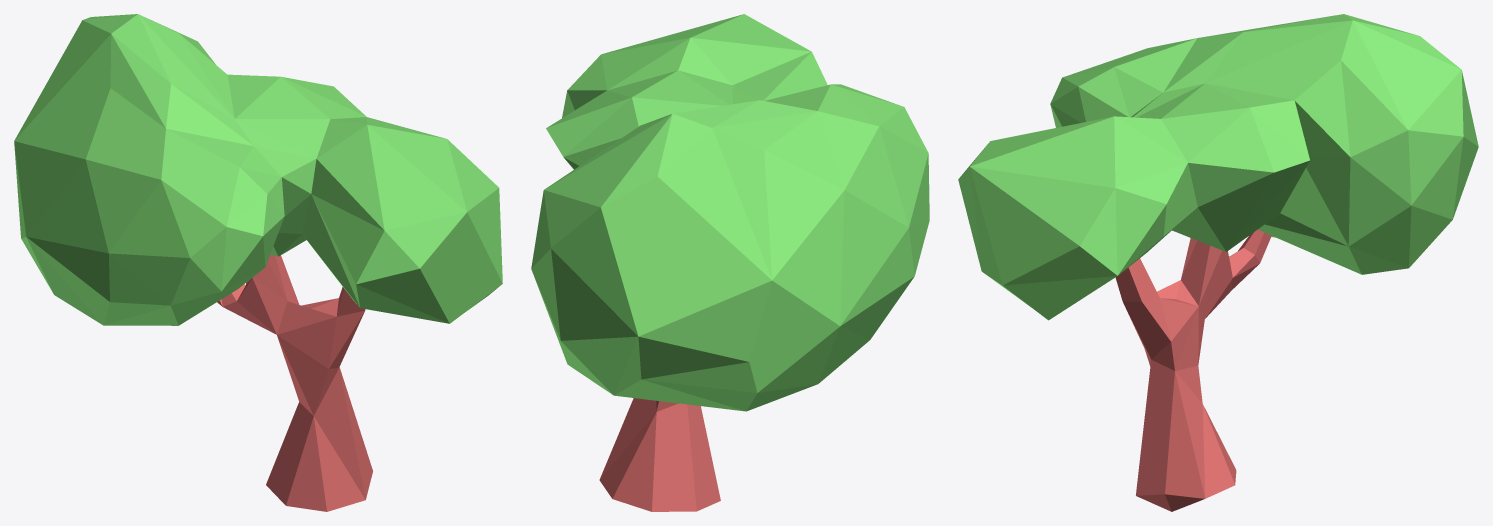
Rendered from tree_9.fbx.
The picture shows the model from 3 angles, left to right: view 1: azimuth 30°, elevation 25°; view 2: azimuth 150°, elevation 25°; view 3: azimuth 270°, elevation 25°; orthographic projection. The views are drawn at different scales.
Visible parts, largest first — view 1: Plane.002; view 2: Plane.002; view 3: Plane.002.
Part boxes in pixels (<box>): Plane.002: <box>14,14,502,511</box>; Plane.002: <box>531,14,929,511</box>; Plane.002: <box>958,14,1478,511</box>.
Size of the model in its own units: 745 by 889 by 974.
